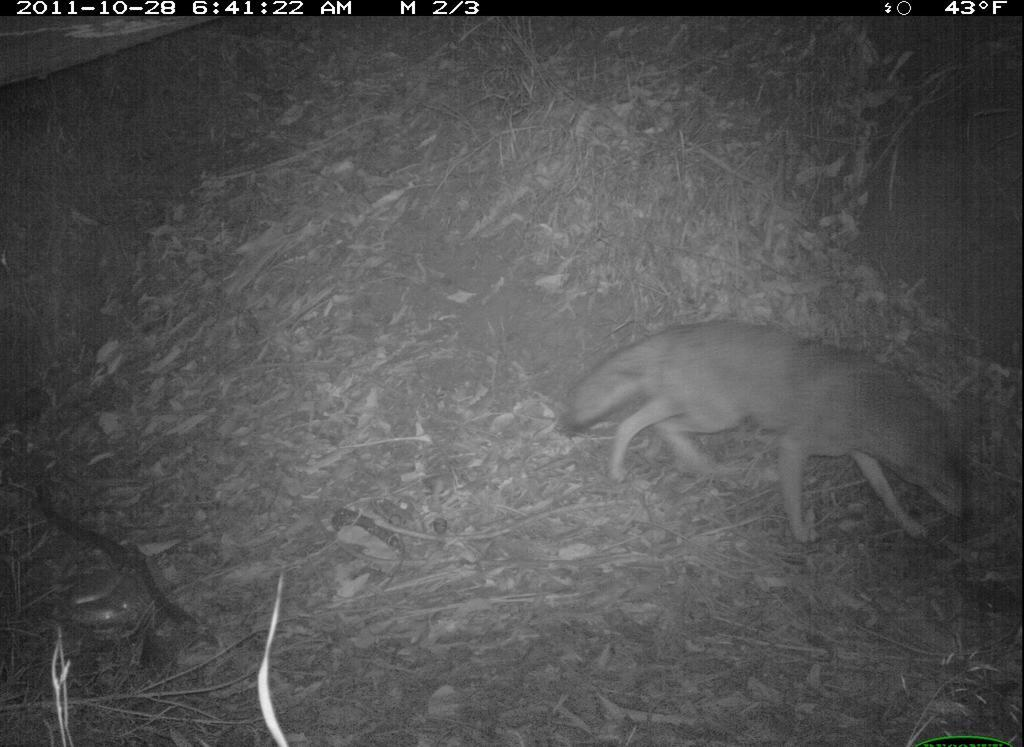coyote: (556, 301, 986, 562)
